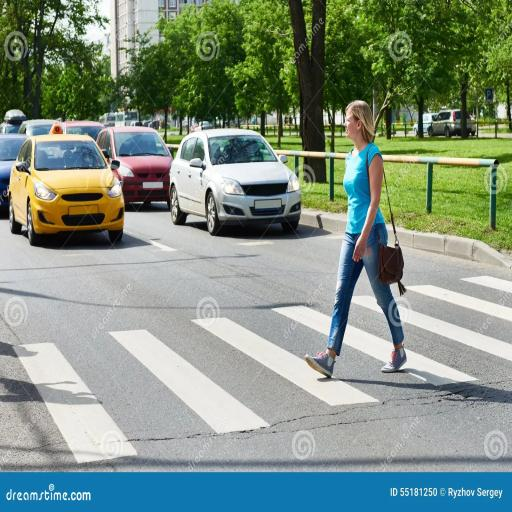car: (168, 127, 302, 236), (7, 132, 125, 246), (95, 126, 174, 210)
person: (304, 99, 407, 378)
